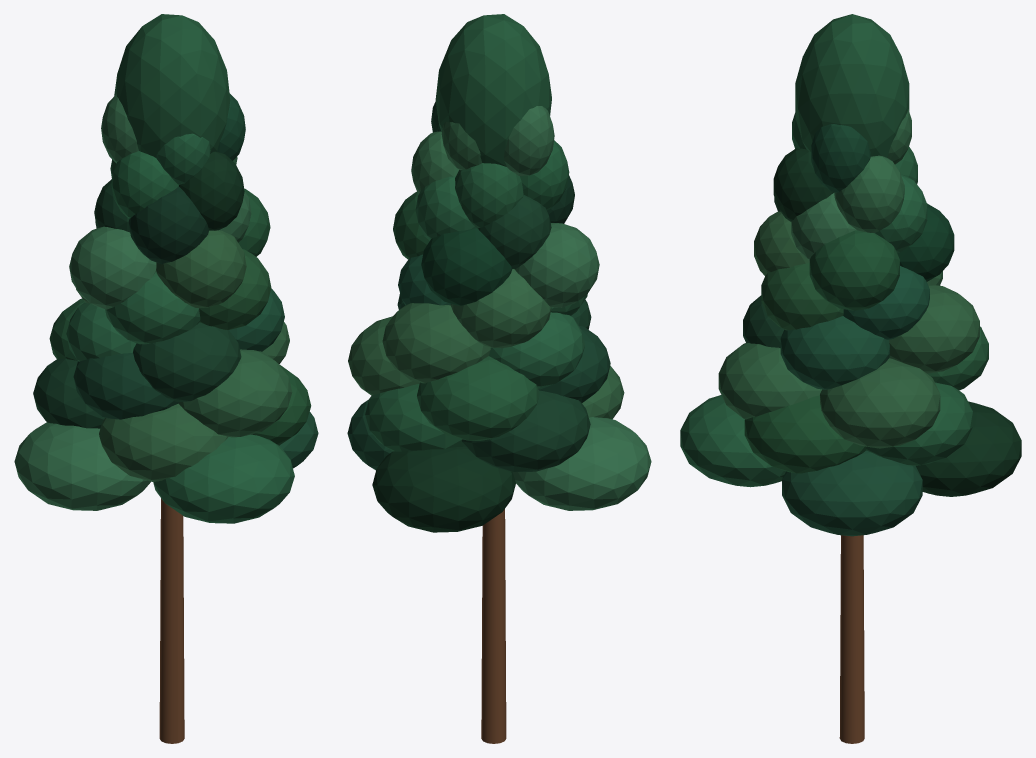
File: pine-open.near.glb
3 views of the same model, side by side, from view 1: azimuth 30°, elevation 25°; view 2: azimuth 150°, elevation 25°; view 3: azimuth 270°, elevation 25° (orthographic).
Visible parts, largest first — view 1: foliage, wood; view 2: foliage, wood; view 3: foliage, wood.
Boxes of the visible parts, x1,y1,x2,y2 form: foliage: (14,14,318,523); wood: (159,498,184,743); foliage: (347,14,651,532); wood: (481,509,506,743); foliage: (680,14,1021,536); wood: (839,535,864,743).
Size of the model in its own units: 6.15 by 15 by 6.45.
